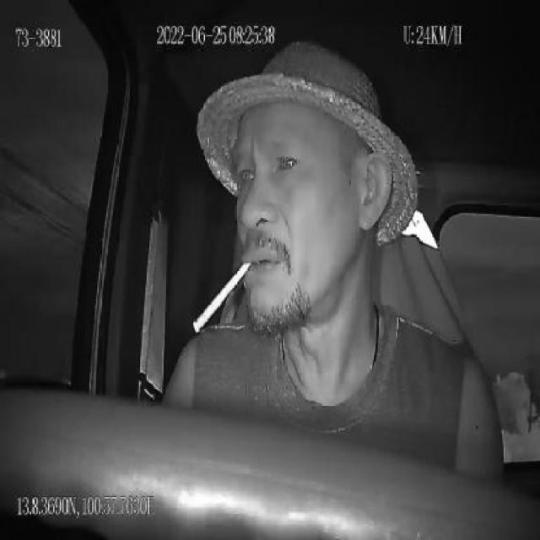smoking: (194, 259, 252, 330)
